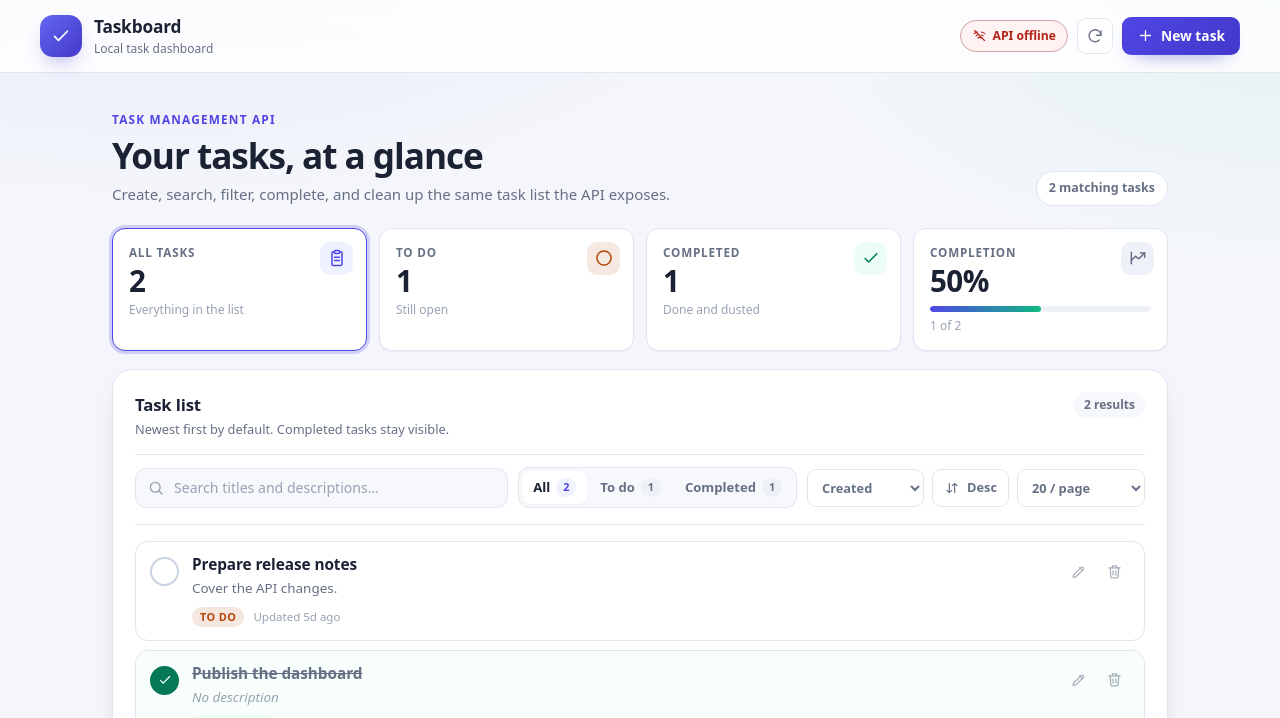
Test case: App › completes a task and keeps it visible
Expected: the heading "Prepare release notes" is shown, top-left (192, 554), bottom-right (357, 575)
What coordinates should you click on to do the following:
click the button named "Mark “Prepare release notes” complete"
I would click on:
 (164, 572)
Its box is top-left (150, 557), bottom-right (179, 586).
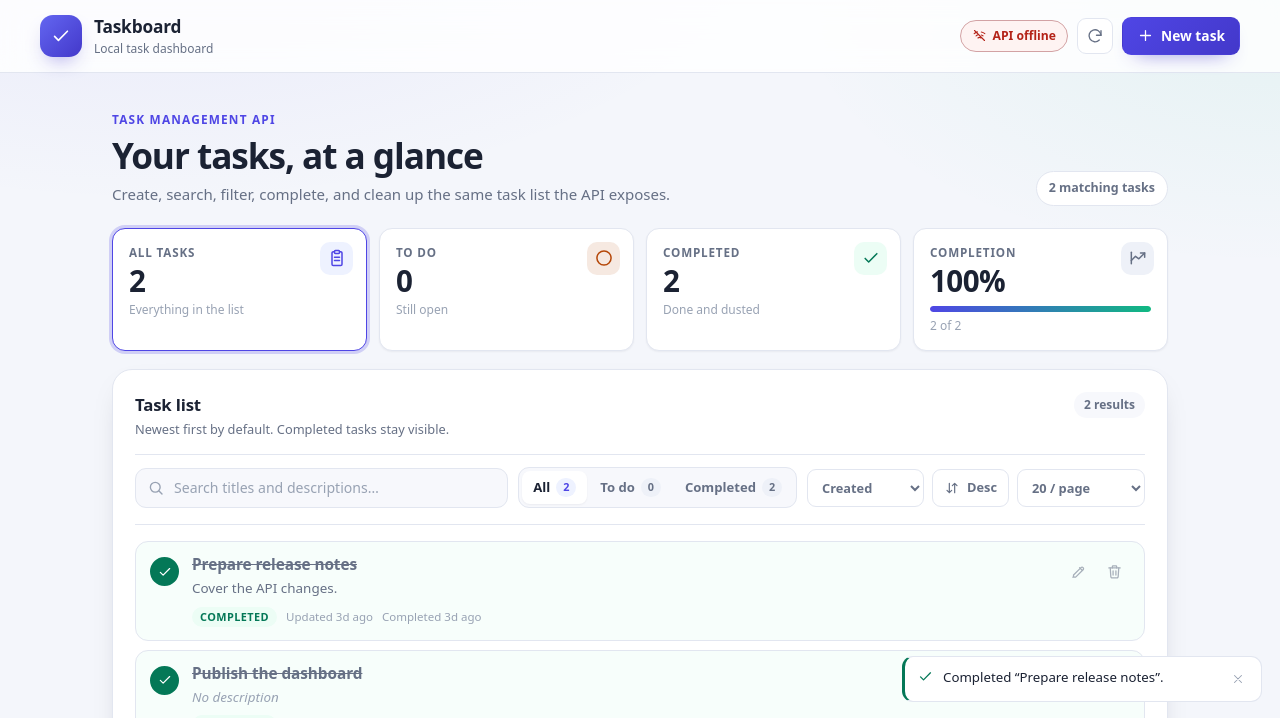
Now the text "Completed “Prepare release notes”." is shown, box top-left (943, 668), bottom-right (1164, 686)
